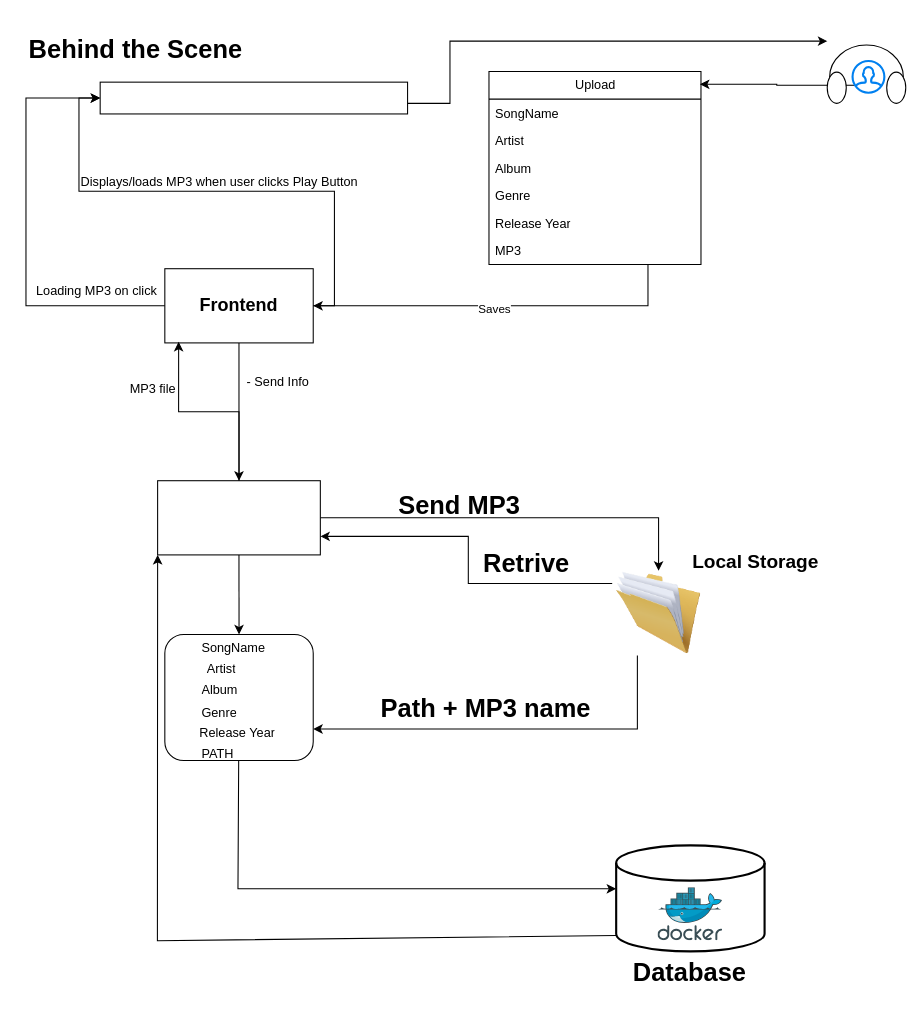
This 924x1011 diagram has some shape labels left out. The centre of each missing label's shape, as x and y in pixels:
"Backend" goes at pixel 238 517.
"Songname Artist Album Genre Year" goes at pixel 253 97.
